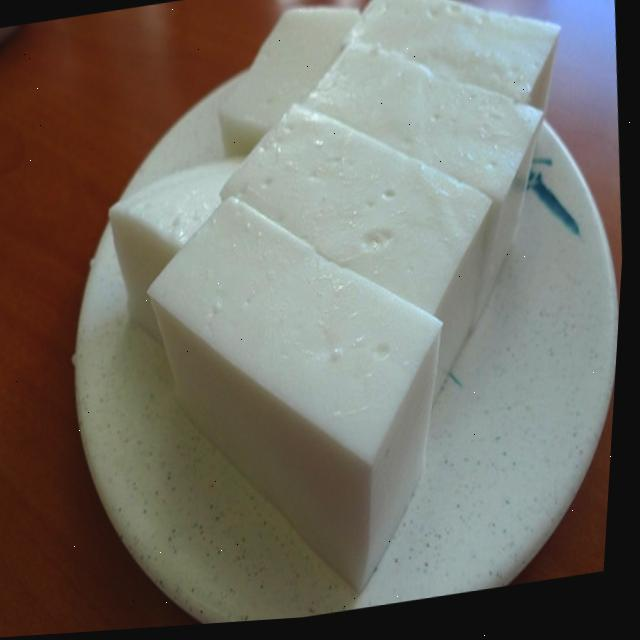蛋糕甜品: (16, 0, 640, 638)
